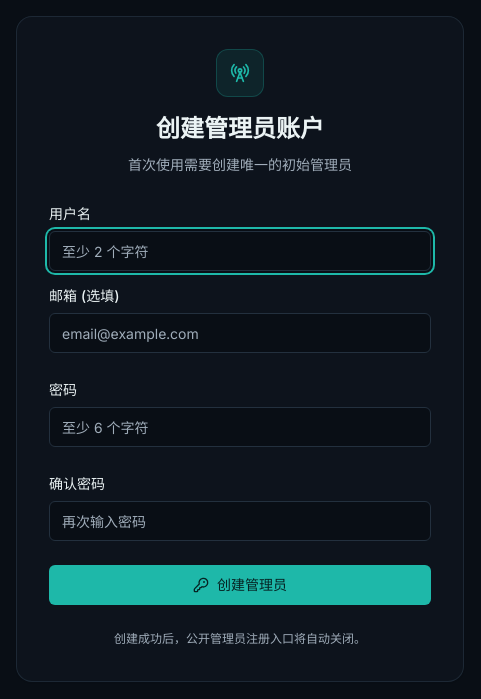
auth › switches to login when another request completes setup first
Expected: the heading "创建管理员账户" is shown, left=156, top=114, right=324, bottom=143
Type "owner" into the field labelled "用户名" at (240, 251), box left=49, top=231, right=431, bottom=271
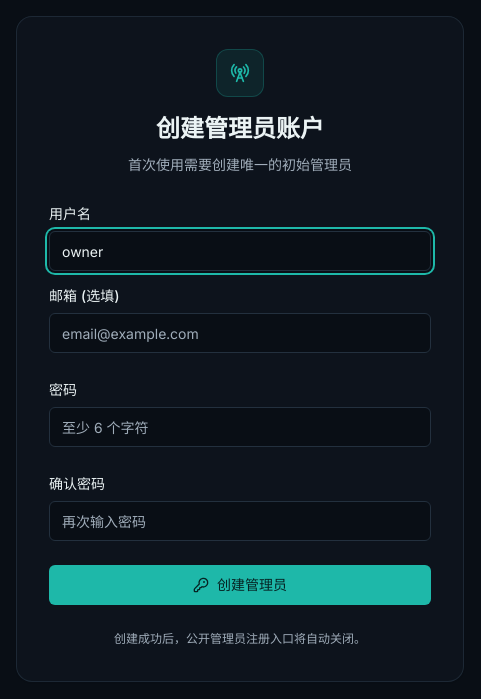
Type "owner@example.com" into the field labelled "邮箱 (选填)" at (240, 333), box left=49, top=313, right=431, bottom=353
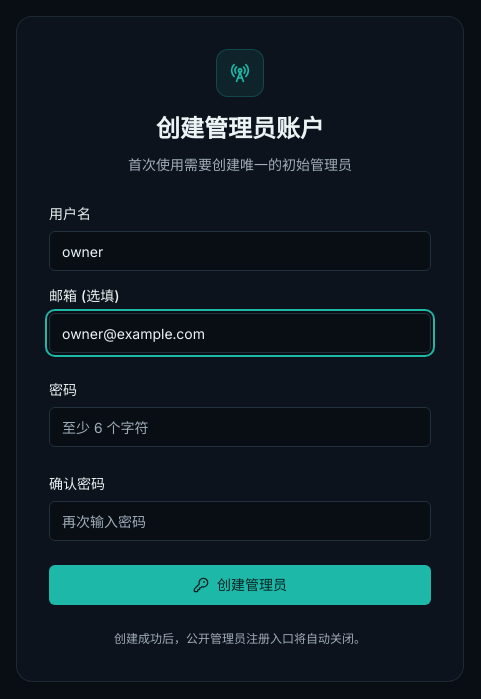
Type "secret123" into the password field labelled "密码" at (240, 427), box left=49, top=407, right=431, bottom=447
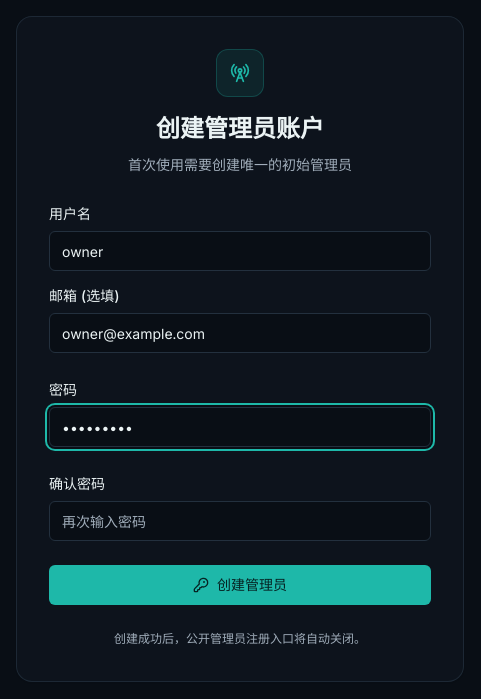
Type "secret123" into the password field labelled "确认密码" at (240, 521), box left=49, top=501, right=431, bottom=541
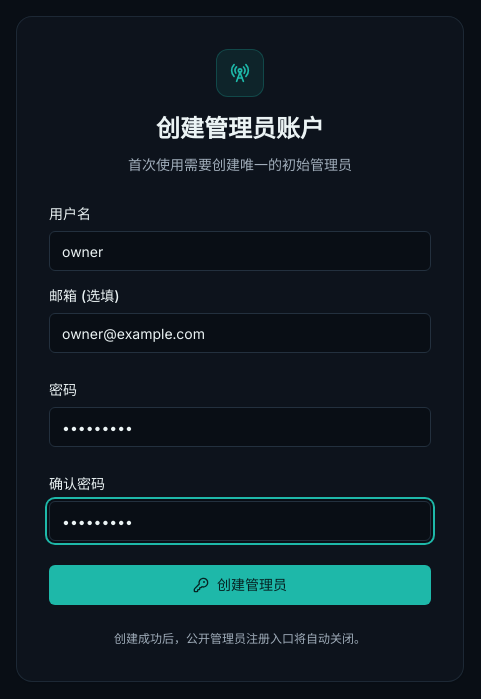
Click the button "创建管理员" at (240, 585), box left=49, top=565, right=431, bottom=605
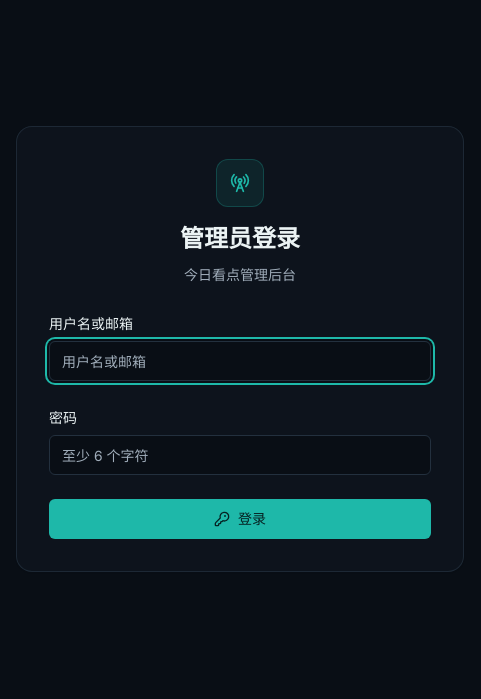
Result: the heading "管理员登录" is shown at left=180, top=224, right=300, bottom=253
